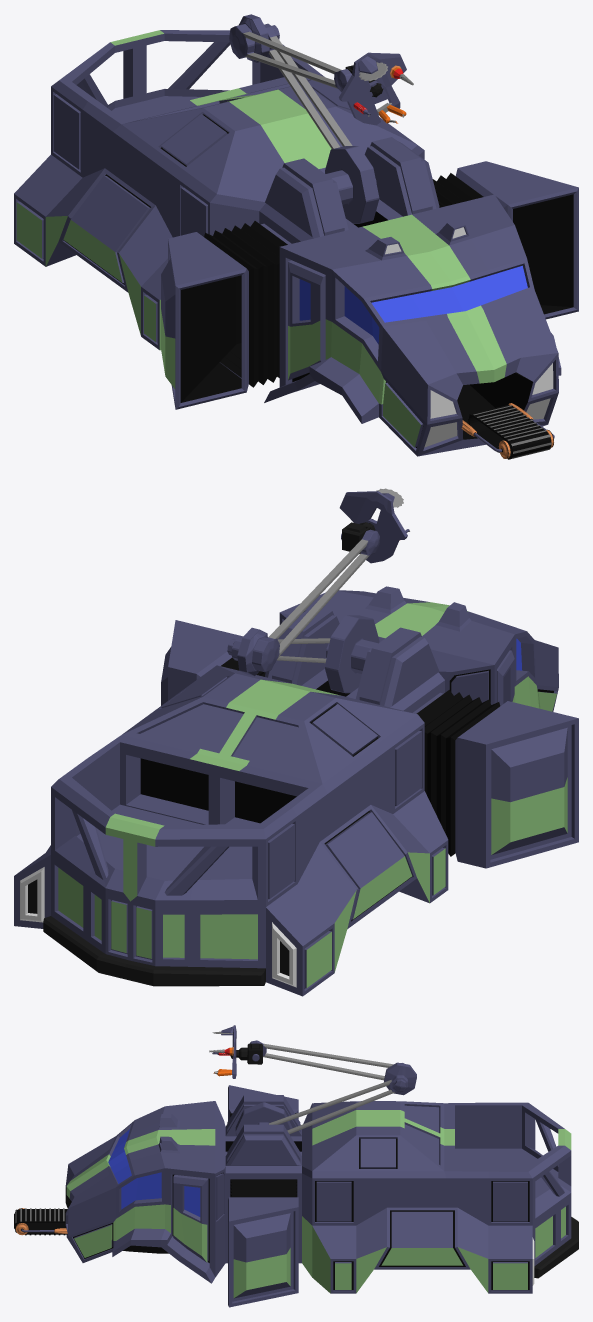
Rendered from _efestos 1.fbx.
The picture shows the model from 3 angles, top to bottom: view 1: azimuth 30°, elevation 25°; view 2: azimuth 150°, elevation 25°; view 3: azimuth 270°, elevation 25°; orthographic projection. The views are drawn at different scales.
Visible parts, largest first — view 1: Hefestos, H arm 1, Cylinder.004, Cylinder.003, Cube.001, chasiscinta; view 2: Hefestos, Cylinder.003, H arm 1, Cylinder.004; view 3: Hefestos, H arm 1, Cylinder.003, Cube.001, Cylinder.004, Cube.017.
Part boxes in pixels (x1,y1,x2,y2): Hefestos: [14, 30, 578, 456]; H arm 1: [264, 23, 379, 223]; Cylinder.004: [339, 52, 413, 125]; Cylinder.003: [229, 14, 351, 91]; Cube.001: [468, 404, 551, 459]; chasiscinta: [461, 403, 554, 458]; Hefestos: [14, 586, 578, 996]; Cylinder.003: [227, 529, 379, 676]; H arm 1: [231, 615, 379, 693]; Cylinder.004: [339, 488, 409, 563]; Hefestos: [65, 1085, 578, 1307]; H arm 1: [235, 1075, 407, 1136]; Cylinder.003: [250, 1040, 416, 1095]; Cube.001: [14, 1208, 67, 1235]; Cylinder.004: [209, 1025, 236, 1078]; Cube.017: [230, 1043, 262, 1064].
Bounding box in the file's own units: 1126 × 836 × 1970.
